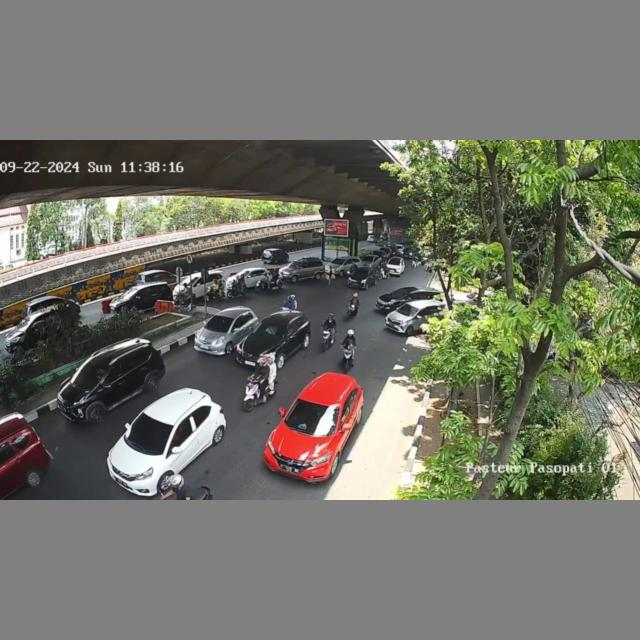windshield: (286, 398, 341, 436), (123, 415, 173, 454), (72, 360, 109, 389), (253, 318, 290, 341), (205, 315, 234, 332), (396, 304, 418, 317)
